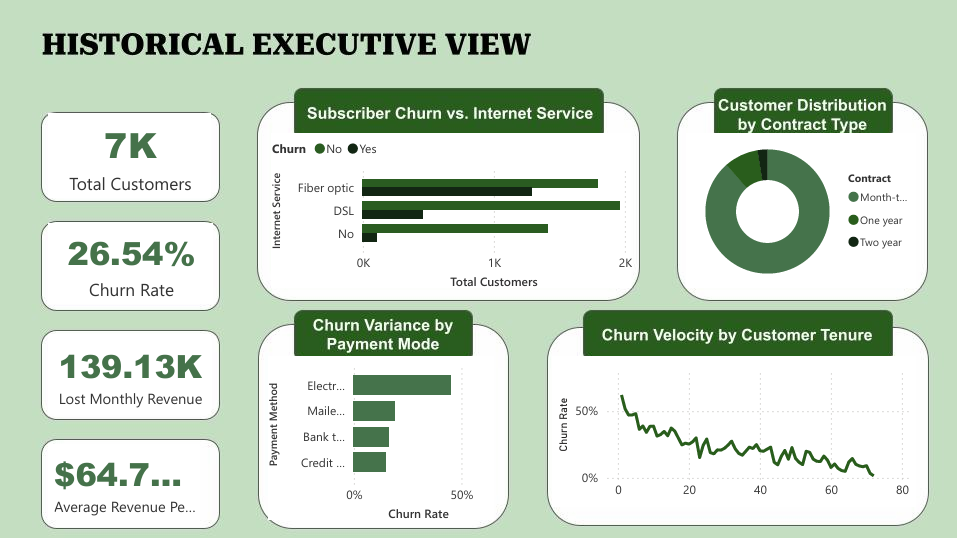

The dashboard page shown, as its layout file describes it:
{"tool":"powerbi","page":{"name":"Page 1","canvas":[1280,720],"ordinal":0},"visuals":[{"type":"cardVisual","fields":{"Data":["customer_churn.Total Customers"]},"box":[208.8,201.6,162.7,85],"z":0},{"type":"cardVisual","fields":{"Data":["customer_churn.Churn Rate"]},"box":[208.8,312.5,165.6,80.6],"z":1000},{"type":"cardVisual","fields":{"Data":["customer_churn.Lost Monthly Revenue"]},"box":[209,423,163,80],"z":2000},{"type":"donutChart","fields":{"Category":["customer_churn.Contract"],"Y":["CountNonNull(customer_churn.customerID)"]},"box":[846.7,221.8,230.4,155.5],"z":3000},{"type":"clusteredBarChart","fields":{"Category":["customer_churn.InternetService"],"Y":["customer_churn.Total Customers"],"Series":["customer_churn.Churn"]},"box":[432,221.8,360,155.5],"z":4000},{"type":"lineChart","fields":{"Category":["customer_churn.tenure"],"Y":["customer_churn.Churn Rate"]},"box":[712.8,445,364.3,151.2],"z":5000},{"type":"cardVisual","fields":{"Data":["customer_churn.Average Revenue Per User"]},"box":[208.8,532.8,152.6,76.3],"z":6000},{"type":"barChart","fields":{"Category":["customer_churn.PaymentMethod"],"Y":["customer_churn.Churn Rate"]},"box":[429.1,445,226.1,164.2],"z":7000}]}

Visuals, with their boxes in screenshot pixels (x1, y1, x2, y2), scaled from the page's 1280x720 canvas onto the 957x538 screenshot:
cardVisual - customer_churn.Total Customers: 156 151 278 214
cardVisual - customer_churn.Churn Rate: 156 234 280 294
cardVisual - customer_churn.Lost Monthly Revenue: 156 316 278 376
donutChart - customer_churn.Contract x CountNonNull(customer_churn.customerID): 633 166 805 282
clusteredBarChart - customer_churn.InternetService x customer_churn.Total Customers: 323 166 592 282
lineChart - customer_churn.tenure x customer_churn.Churn Rate: 533 333 805 445
cardVisual - customer_churn.Average Revenue Per User: 156 398 270 455
barChart - customer_churn.PaymentMethod x customer_churn.Churn Rate: 321 333 490 455
